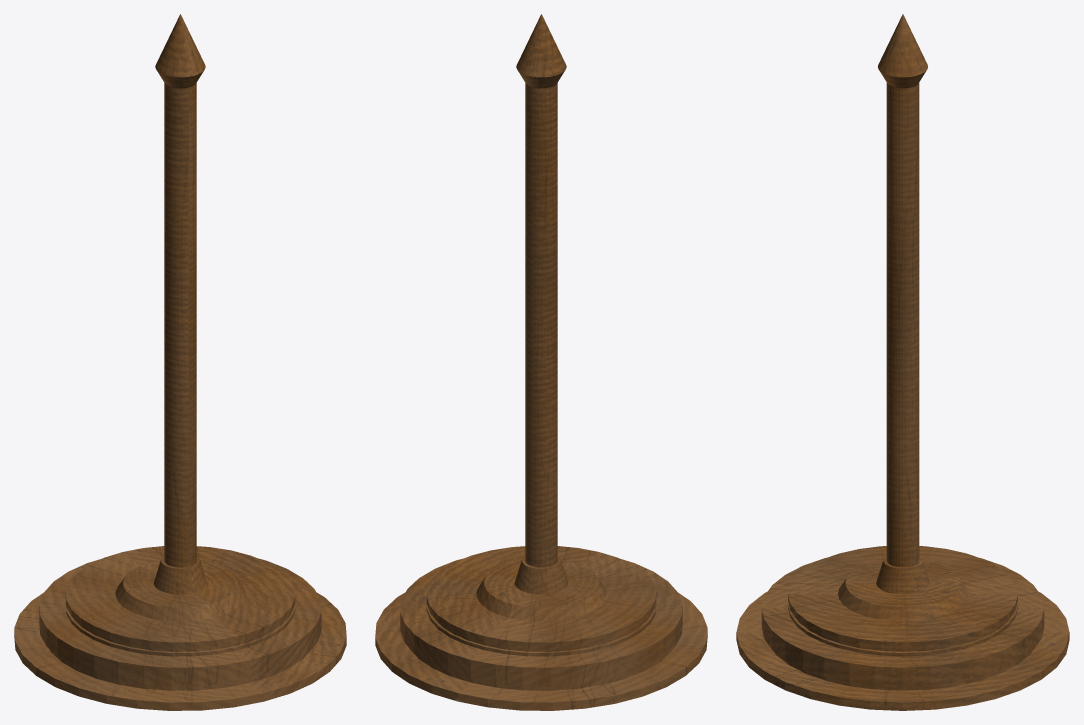
The model's file is coatRack.fbx.
3 renders of one model, left to right at view 1: azimuth 30°, elevation 25°; view 2: azimuth 150°, elevation 25°; view 3: azimuth 270°, elevation 25°, orthographic.
Parts seen in each view (by area): view 1: Cylinder; view 2: Cylinder; view 3: Cylinder.
Part boxes in pixels (<box>): Cylinder: <box>14,14,346,710</box>; Cylinder: <box>375,14,707,710</box>; Cylinder: <box>736,14,1069,710</box>.
Bounding box in the file's own units: 235 × 235 × 489.
